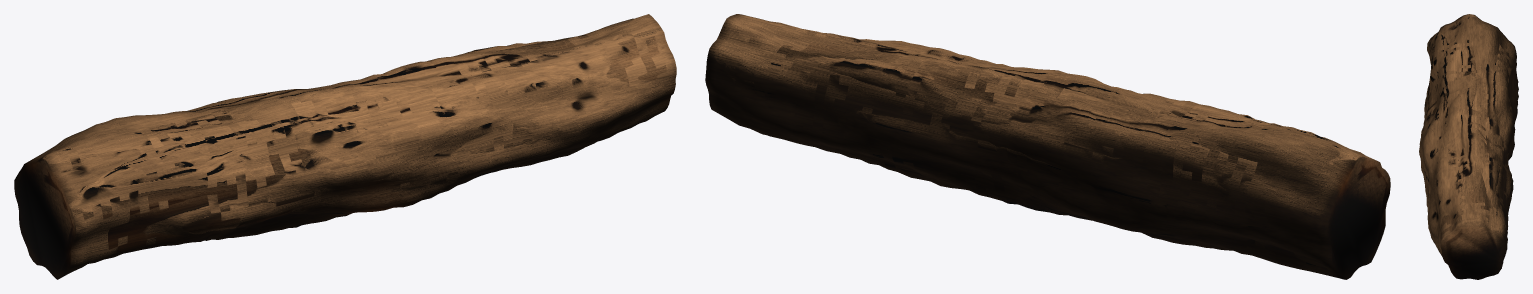
The model's file is Tronco_Casca.glb.
The picture shows the model from 3 angles, left to right: view 1: azimuth 30°, elevation 25°; view 2: azimuth 150°, elevation 25°; view 3: azimuth 270°, elevation 25°; orthographic projection. The views are drawn at different scales.
Parts seen in each view (by area): view 1: TRONCO | casca irregular; view 2: TRONCO | casca irregular; view 3: TRONCO | casca irregular.
Part boxes in pixels (x1,y1,x2,y2): TRONCO | casca irregular: [14, 14, 676, 279]; TRONCO | casca irregular: [705, 14, 1390, 279]; TRONCO | casca irregular: [1419, 14, 1518, 279].
Size of the model in its own units: 5 by 1.02 by 1.05.
Materials: 1 (1 with a texture image).
